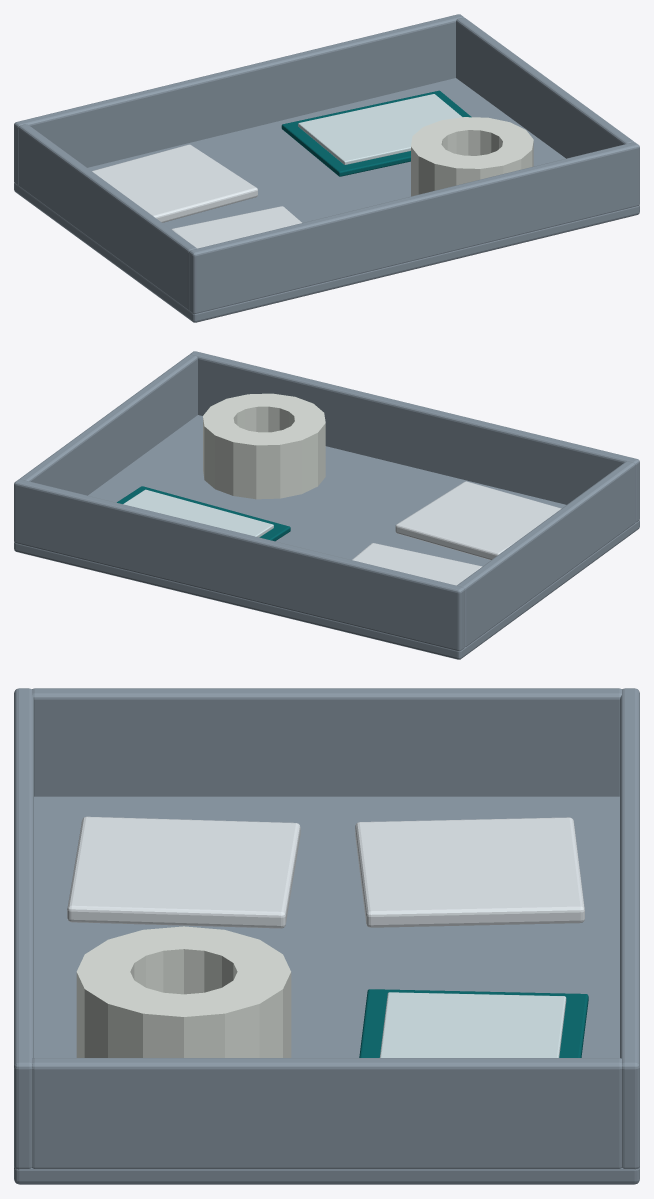
Rendered from asset.fbx.
3 renders of one model, top to bottom at view 1: azimuth 30°, elevation 25°; view 2: azimuth 150°, elevation 25°; view 3: azimuth 270°, elevation 25°, orthographic. The views are drawn at different scales.
Visible parts, largest first — view 1: radcare_dressing_kit_tray_front_wall, radcare_dressing_kit_tray_back_wall, radcare_dressing_kit_tray_base, radcare_dressing_kit_tray_left_wall, radcare_dressing_kit_tray_right_wall, radcare_dressing_kit_fixation_tape_roll, radcare_dressing_kit_gauze_pad_back, radcare_dressing_kit_sealed_packet_white_panel, radcare_dressing_kit_gauze_pad_front, radcare_dressing_kit_sealed_packet_border; view 2: radcare_dressing_kit_tray_back_wall, radcare_dressing_kit_tray_base, radcare_dressing_kit_tray_front_wall, radcare_dressing_kit_tray_left_wall, radcare_dressing_kit_fixation_tape_roll, radcare_dressing_kit_tray_right_wall, radcare_dressing_kit_gauze_pad_front, radcare_dressing_kit_gauze_pad_back, radcare_dressing_kit_sealed_packet_white_panel, radcare_dressing_kit_sealed_packet_border; view 3: radcare_dressing_kit_tray_base, radcare_dressing_kit_tray_right_wall, radcare_dressing_kit_tray_left_wall, radcare_dressing_kit_fixation_tape_roll, radcare_dressing_kit_gauze_pad_front, radcare_dressing_kit_gauze_pad_back, radcare_dressing_kit_sealed_packet_white_panel, radcare_dressing_kit_tray_front_wall, radcare_dressing_kit_tray_back_wall, radcare_dressing_kit_sealed_packet_border.
Part boxes in pixels (x1,y1,x2,y2): radcare_dressing_kit_tray_front_wall: (189,142,639,314); radcare_dressing_kit_tray_back_wall: (14,14,463,185); radcare_dressing_kit_tray_base: (14,78,639,322); radcare_dressing_kit_tray_left_wall: (18,124,196,309); radcare_dressing_kit_tray_right_wall: (456,17,634,158); radcare_dressing_kit_fixation_tape_roll: (411,117,533,196); radcare_dressing_kit_gauze_pad_back: (92,144,257,222); radcare_dressing_kit_sealed_packet_white_panel: (298,94,462,164); radcare_dressing_kit_gauze_pad_front: (171,206,301,248); radcare_dressing_kit_sealed_packet_border: (281,90,471,176); radcare_dressing_kit_tray_back_wall: (14,479,464,651); radcare_dressing_kit_tray_base: (14,415,639,659); radcare_dressing_kit_tray_front_wall: (190,351,639,522); radcare_dressing_kit_tray_left_wall: (457,461,635,646); radcare_dressing_kit_fixation_tape_roll: (203,393,325,499); radcare_dressing_kit_tray_right_wall: (19,354,197,495); radcare_dressing_kit_gauze_pad_front: (395,481,561,559); radcare_dressing_kit_gauze_pad_back: (352,543,482,585); radcare_dressing_kit_sealed_packet_white_panel: (123,489,273,537); radcare_dressing_kit_sealed_packet_border: (117,486,290,541); radcare_dressing_kit_tray_base: (14,796,639,1184); radcare_dressing_kit_tray_right_wall: (32,1058,621,1168); radcare_dressing_kit_tray_left_wall: (32,688,621,796); radcare_dressing_kit_fixation_tape_roll: (76,926,291,1057); radcare_dressing_kit_gauze_pad_front: (67,816,300,928); radcare_dressing_kit_gauze_pad_back: (355,817,584,927); radcare_dressing_kit_sealed_packet_white_panel: (379,992,566,1057); radcare_dressing_kit_tray_front_wall: (14,688,33,1169); radcare_dressing_kit_tray_back_wall: (620,688,639,1169); radcare_dressing_kit_sealed_packet_border: (359,989,588,1057).
Bounding box in the file's own units: 0.4 × 0.06 × 0.28.
